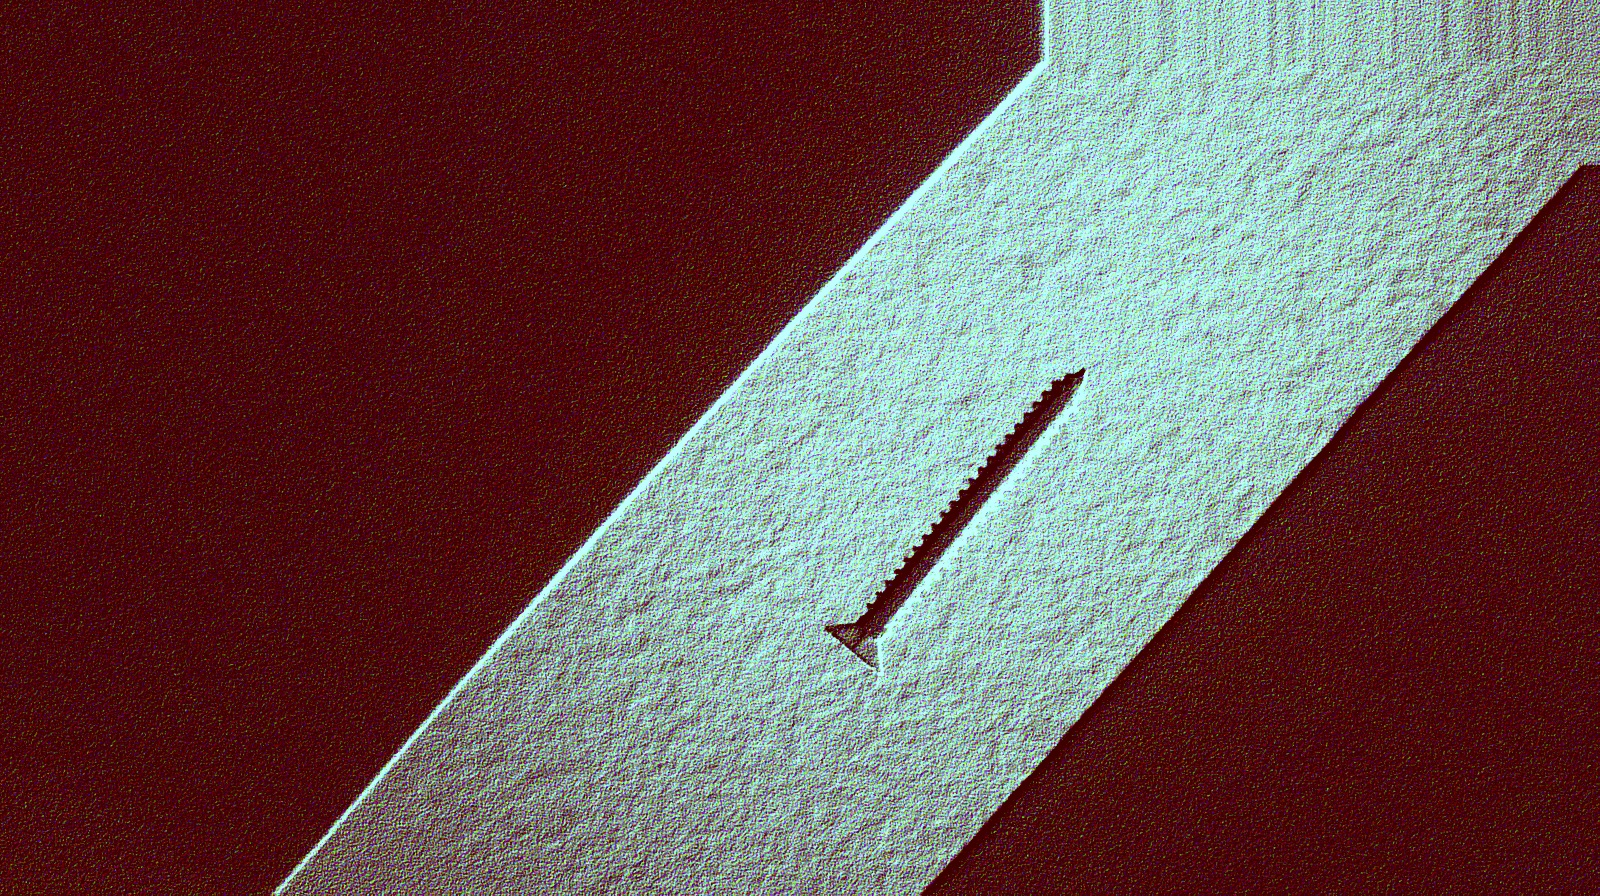S002: (807, 352, 1124, 692)
